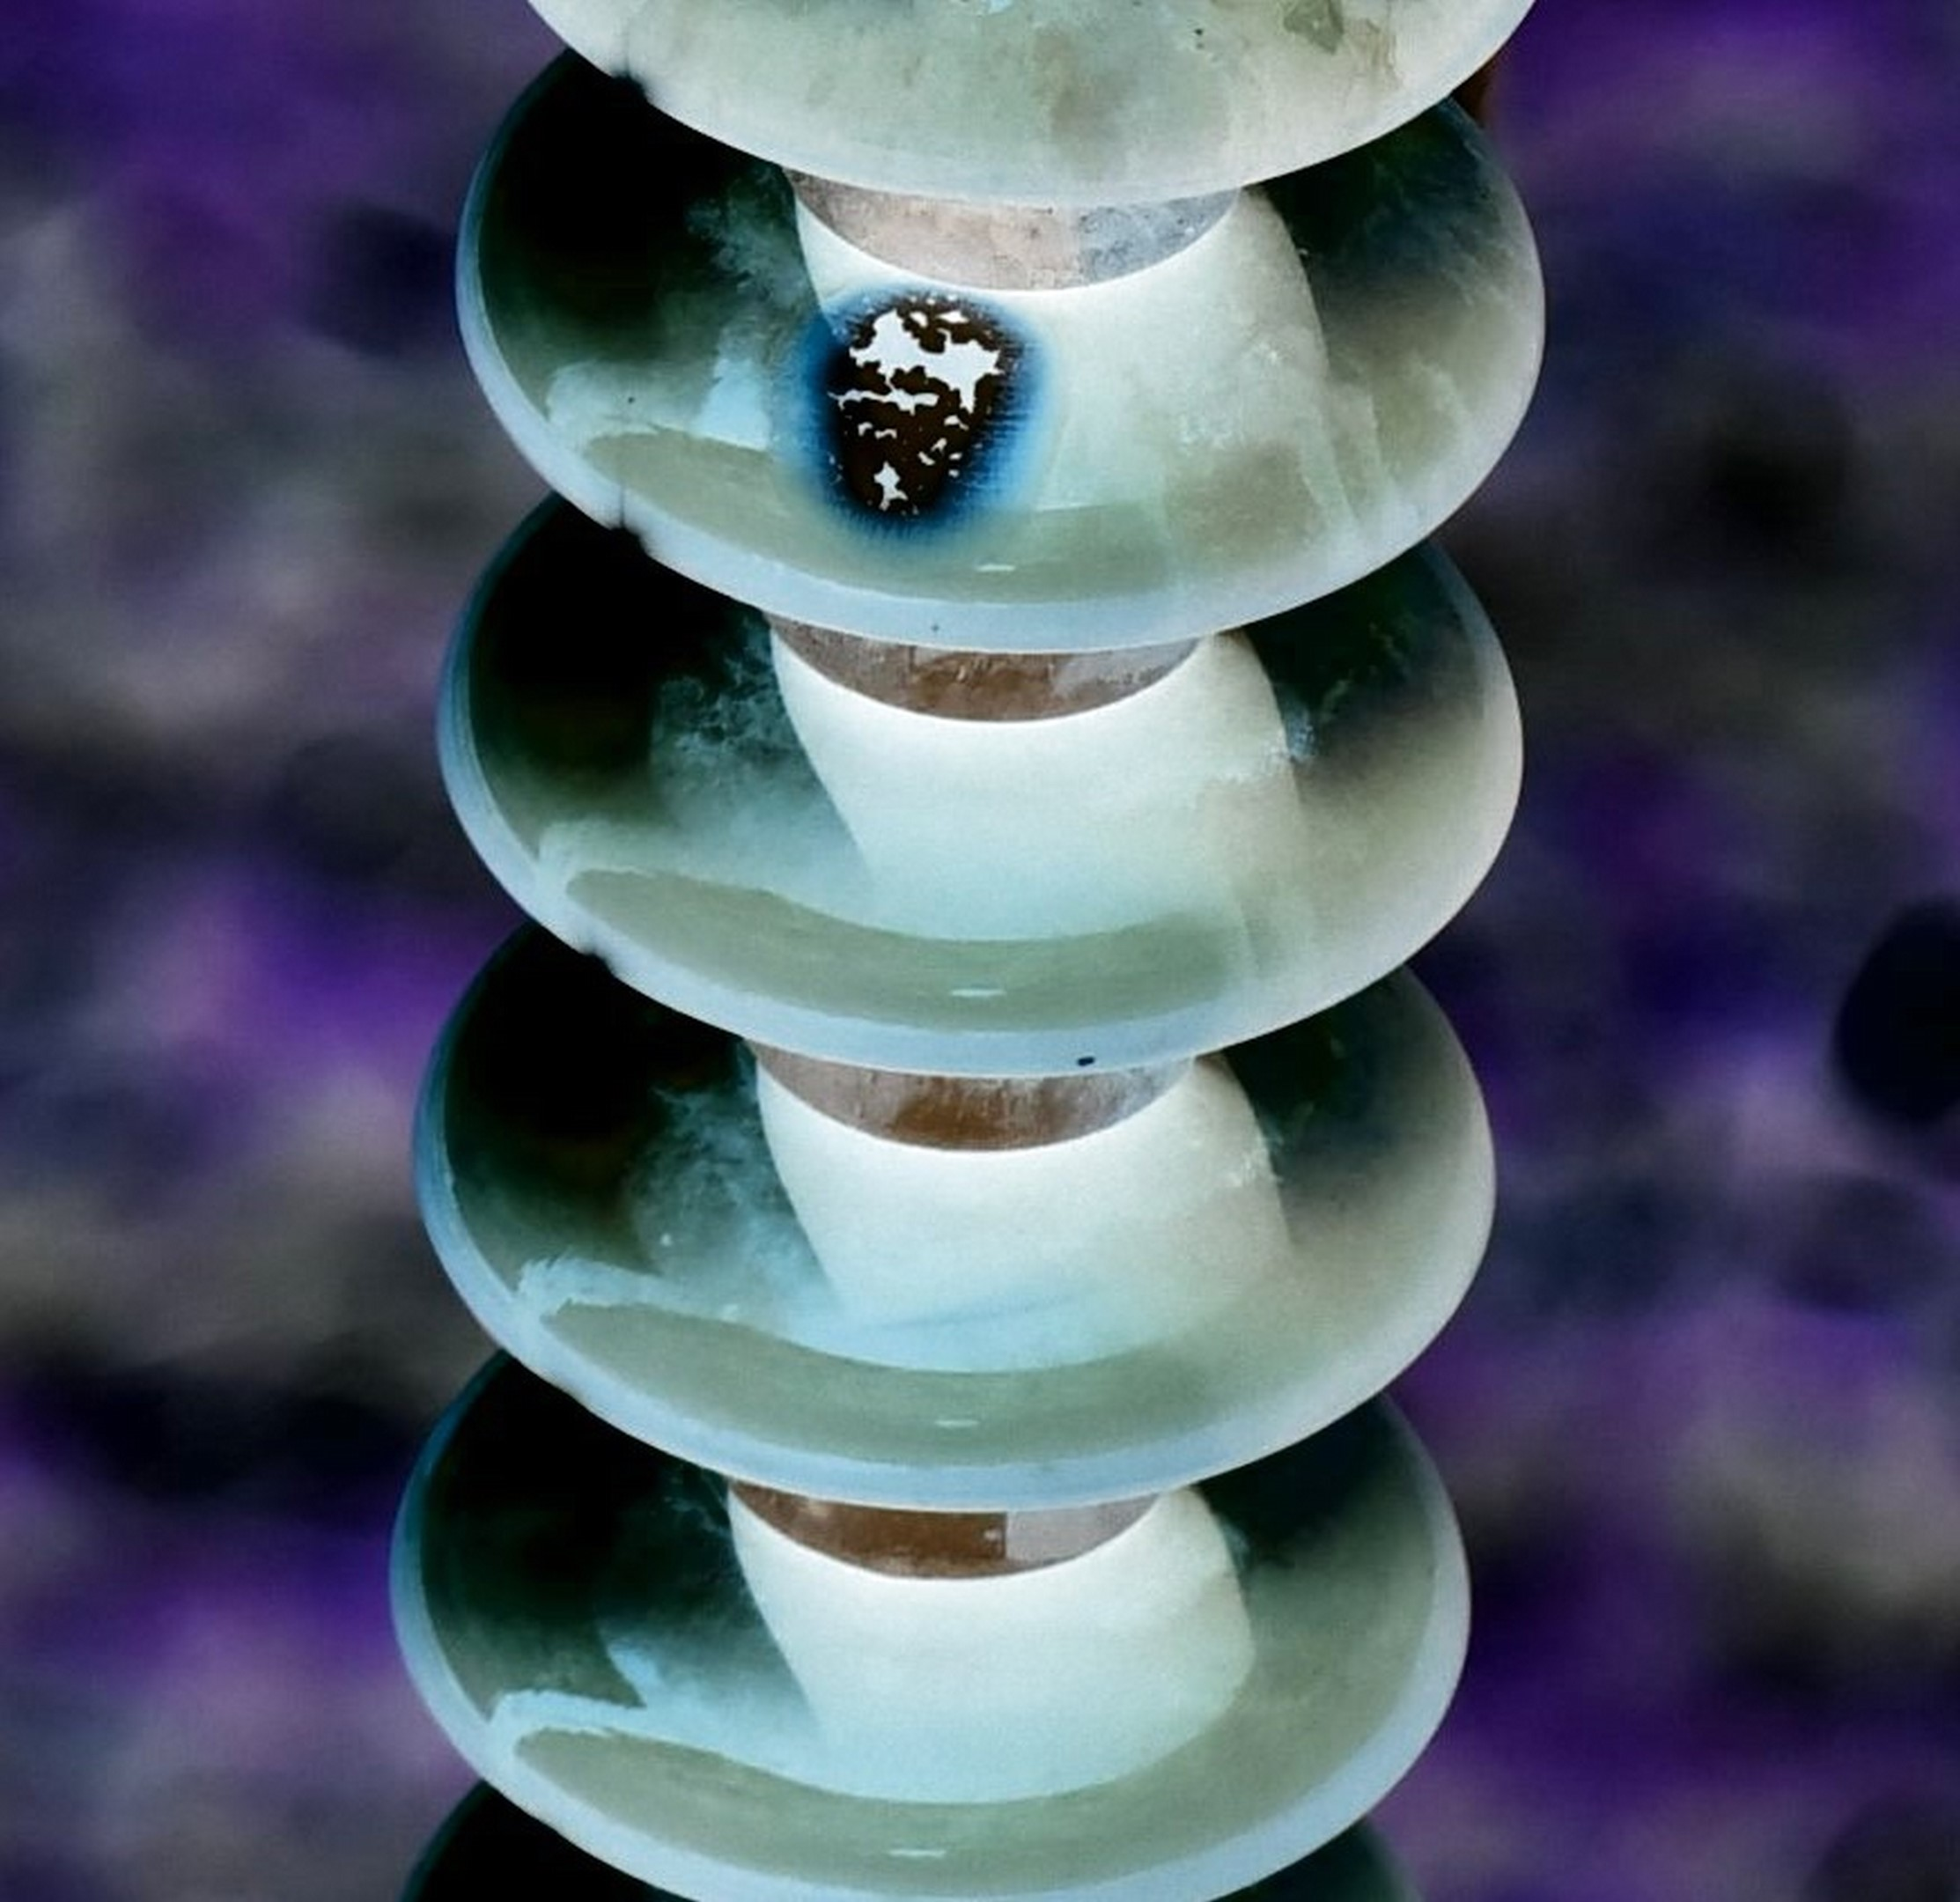Insulator flashover: (418, 84, 1591, 665)
